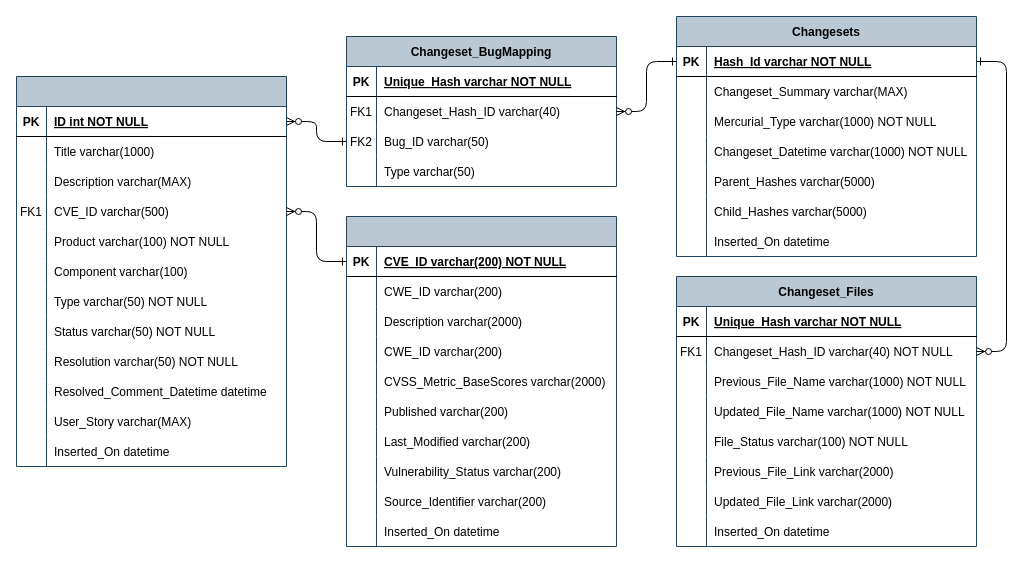
This 1023x563 diagram has some shape labels left out. The shapes that lost their labels are listed below. From the top down, each one's box as (x1, y1, x2, y2) in pixels, then its label:
(16, 76, 286, 466): Bugs
(346, 216, 616, 546): CVE_Details
